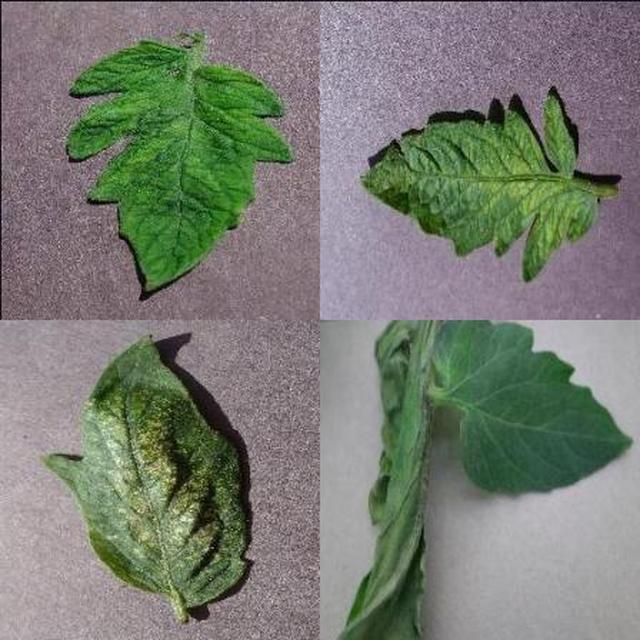Mosaic Virus Leaf: (133, 238, 640, 640)
